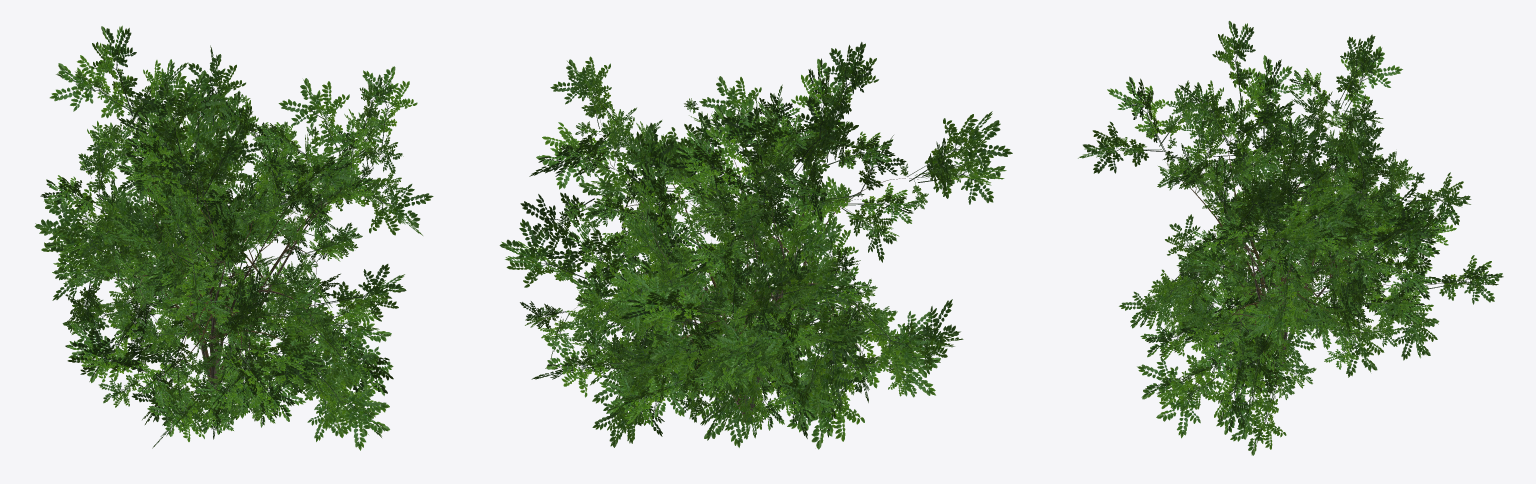
Rendered from tree-bush.glb.
3 renders of one model, left to right at view 1: azimuth 30°, elevation 25°; view 2: azimuth 150°, elevation 25°; view 3: azimuth 270°, elevation 25°, orthographic. The views are drawn at different scales.
Parts seen in each view (by area): view 1: Tree; view 2: Tree; view 3: Tree.
Part boxes in pixels (box(x1,y1,x2,y2)): Tree: box(34, 25, 433, 450); Tree: box(499, 42, 1012, 449); Tree: box(1078, 21, 1503, 455).
Size of the model in its own units: 0.8857 by 0.8537 by 0.9503.
Materials: 2 (2 with a texture image).
